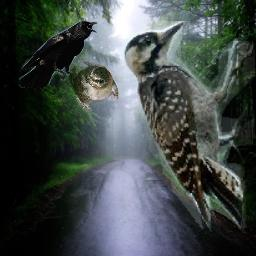Crow: (19, 20, 98, 88)
Swallow: (62, 61, 119, 112)
Woodpecker: (121, 21, 255, 233)
